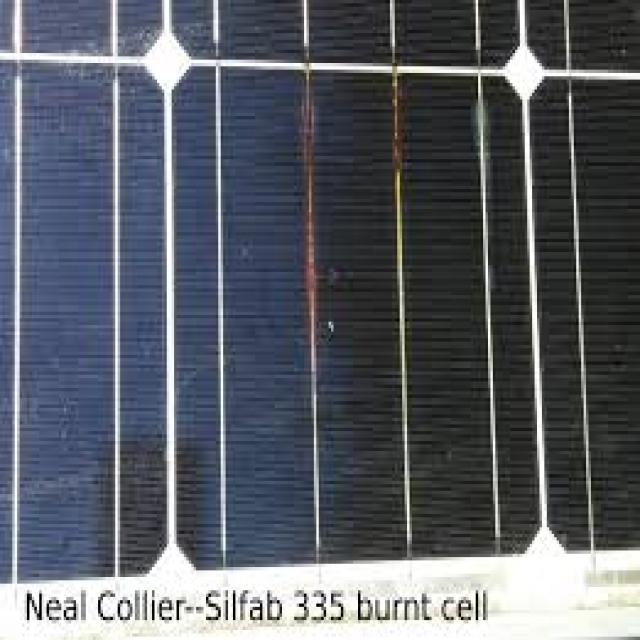faulty: (12, 0, 640, 577)
